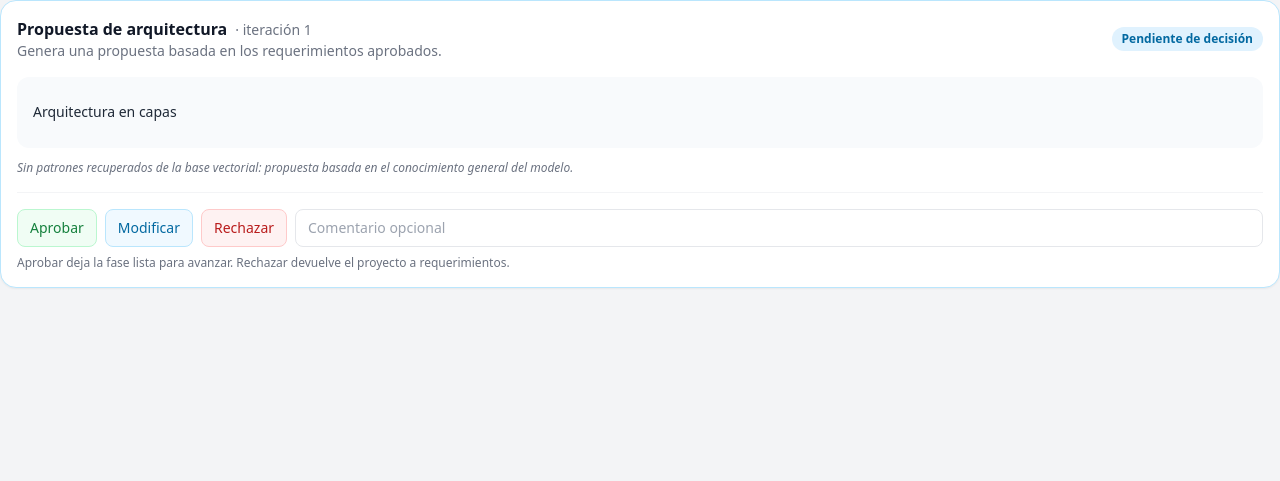
ProposalCard › progreso, cancelar y reintentar (F19) › el reintento lo decide `retryable`, no la redacción del mensaje
Expected: the element with test id "proposal-content" is shown, [17,77,1263,148]
Click the button with test id "proposal-modify" at (149, 228), box [105,209,193,247]
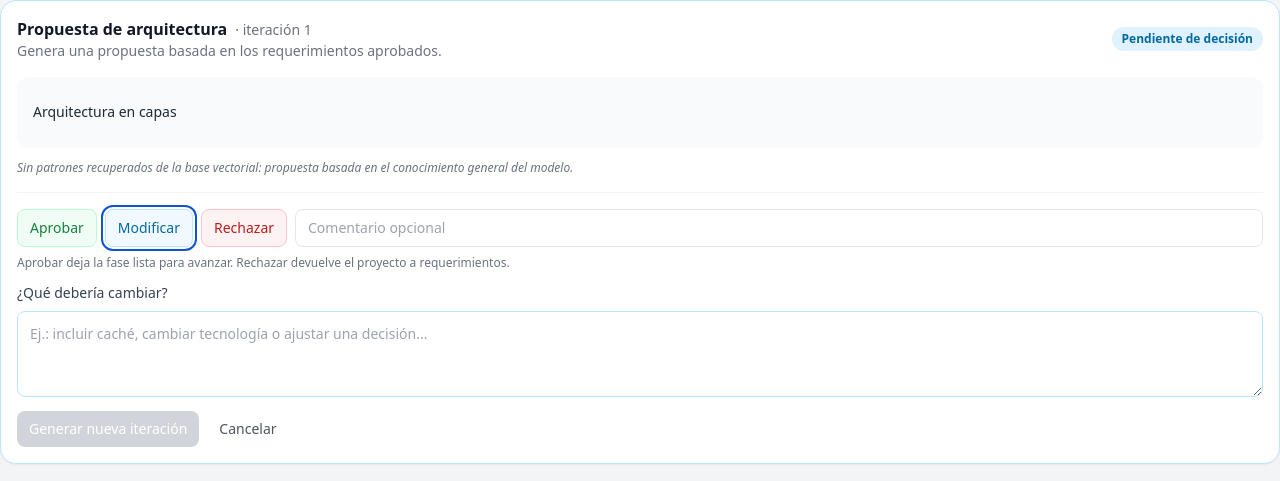
Type "agrega caché" into the text box labelled "¿Qué debería cambiar?" at (640, 354), box [17,311,1263,397]
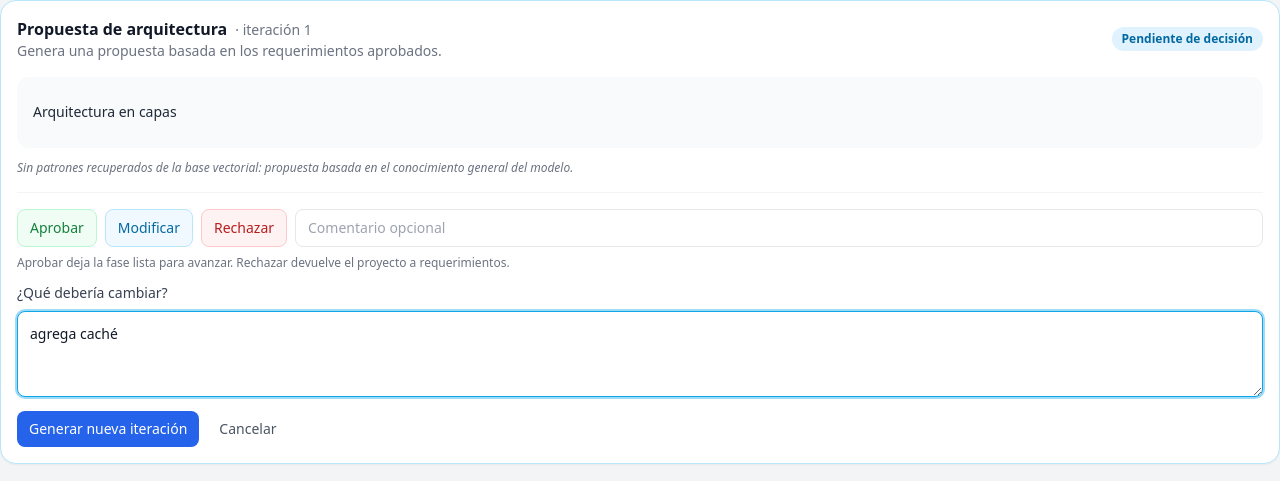
Click the button "Generar nueva iteración" at (108, 429), box [17,411,199,447]
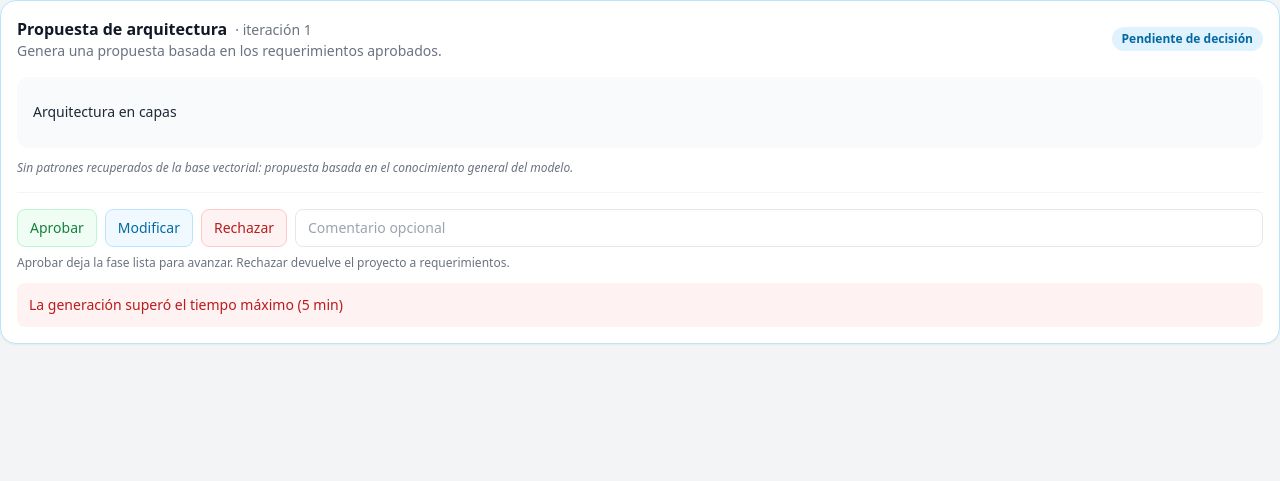
Expected: the message shows "tiempo máximo", [29,295,343,314]
